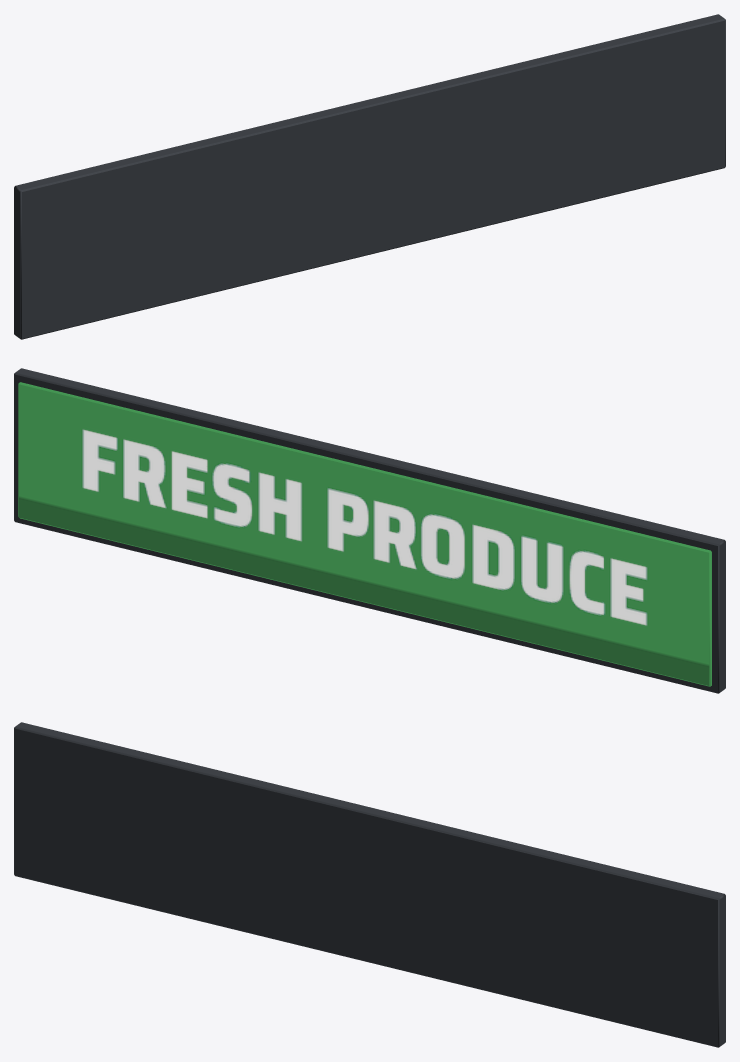
File: wall_sign_produce.glb
3 views of the same model, one above another, from view 1: azimuth 30°, elevation 25°; view 2: azimuth 150°, elevation 25°; view 3: azimuth 330°, elevation 25° (orthographic).
Parts seen in each view (by area): view 1: wall_sign_produce; view 2: wall_sign_produce; view 3: wall_sign_produce.
Boxes of the visible parts, x1,y1,x2,y2 form: wall_sign_produce: (14, 14, 725, 339); wall_sign_produce: (14, 368, 725, 693); wall_sign_produce: (14, 722, 725, 1047).
Size of the model in its own units: 16.3 by 3.3 by 0.38.
Materials: 2 (1 with a texture image).
